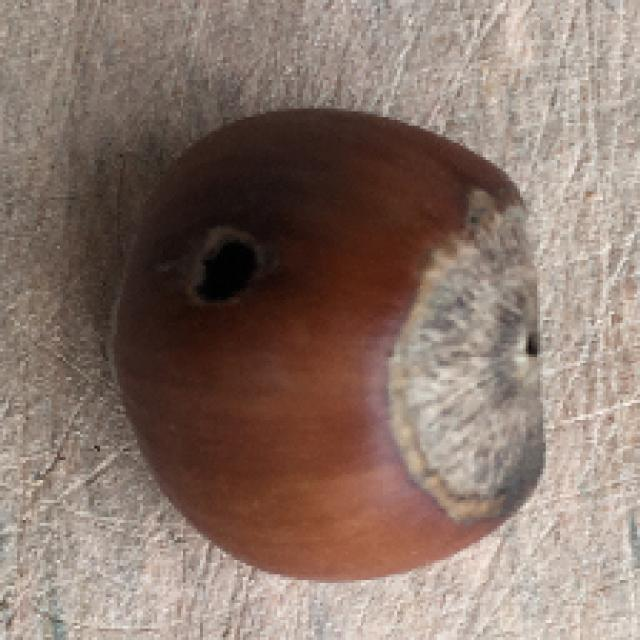damagedHazelnut: (97, 110, 549, 580)
